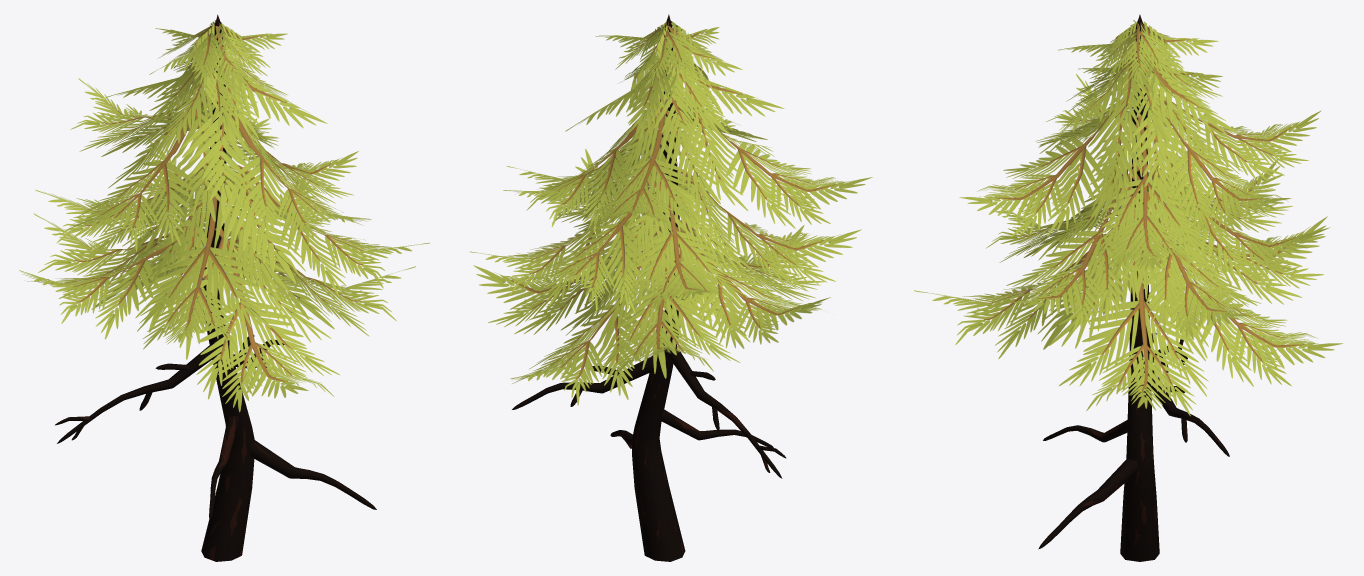
Rendered from garden_pine.glb.
3 renders of one model, left to right at view 1: azimuth 30°, elevation 25°; view 2: azimuth 150°, elevation 25°; view 3: azimuth 270°, elevation 25°, orthographic.
Parts seen in each view (by area): view 1: PineTree_3; view 2: PineTree_3; view 3: PineTree_3.
Part boxes in pixels (x1=…): PineTree_3: x1=19, y1=14, x2=429, y2=561; PineTree_3: x1=469, y1=14, x2=872, y2=561; PineTree_3: x1=914, y1=14, x2=1343, y2=561.
Bounding box in the file's own units: 2.6 × 3.46 × 2.58.
2 materials, 2 textured.
